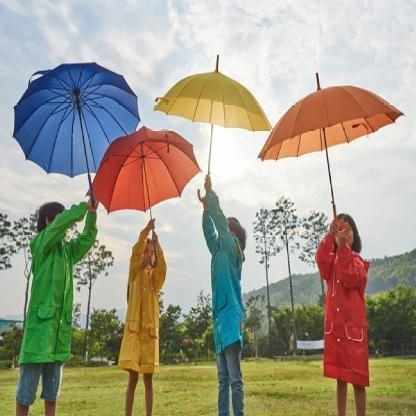Umbrella: (259, 52, 403, 226), (13, 45, 147, 192), (92, 109, 209, 233), (156, 40, 272, 152)
